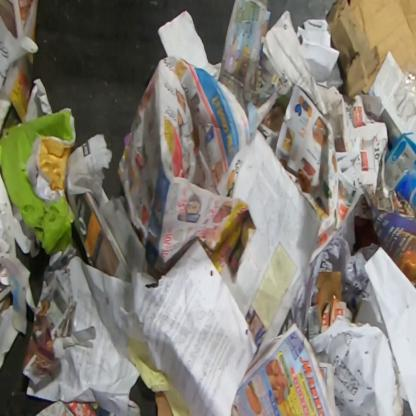cardboard: (1, 110, 76, 258), (325, 0, 415, 100), (359, 182, 416, 292), (384, 132, 415, 220), (312, 271, 342, 328), (0, 107, 21, 164), (154, 390, 174, 415)
rigid_plastic: (392, 62, 416, 124)
soft_plastic: (397, 157, 415, 181)
